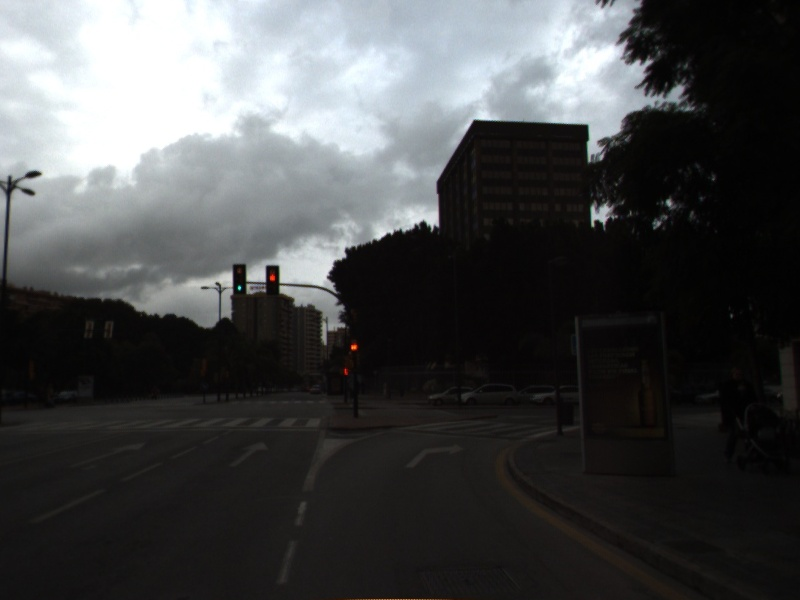RIGHT: (402, 441, 466, 470)
STRAIGHT: (68, 440, 148, 469), (226, 439, 271, 469)
